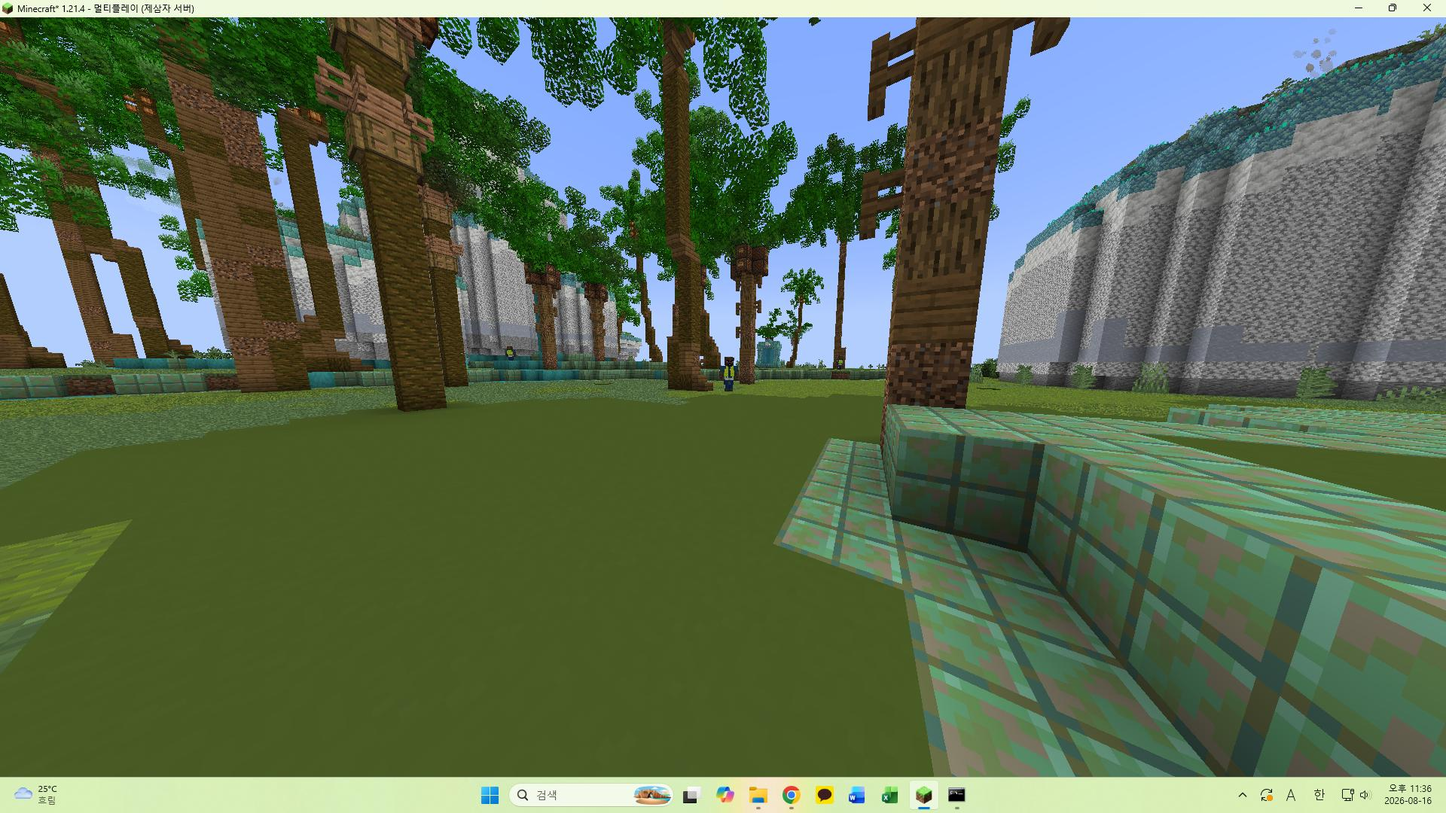Guardian: (719, 357, 737, 391)
